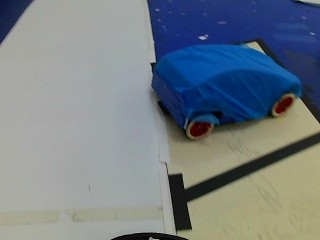car: (138, 43, 305, 134)
